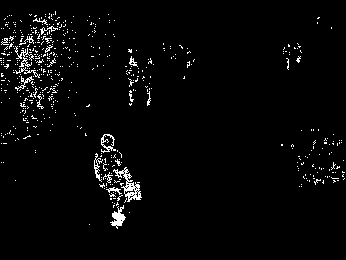person: (89, 132, 145, 235)
